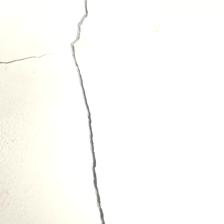High: (1, 1, 110, 223)
